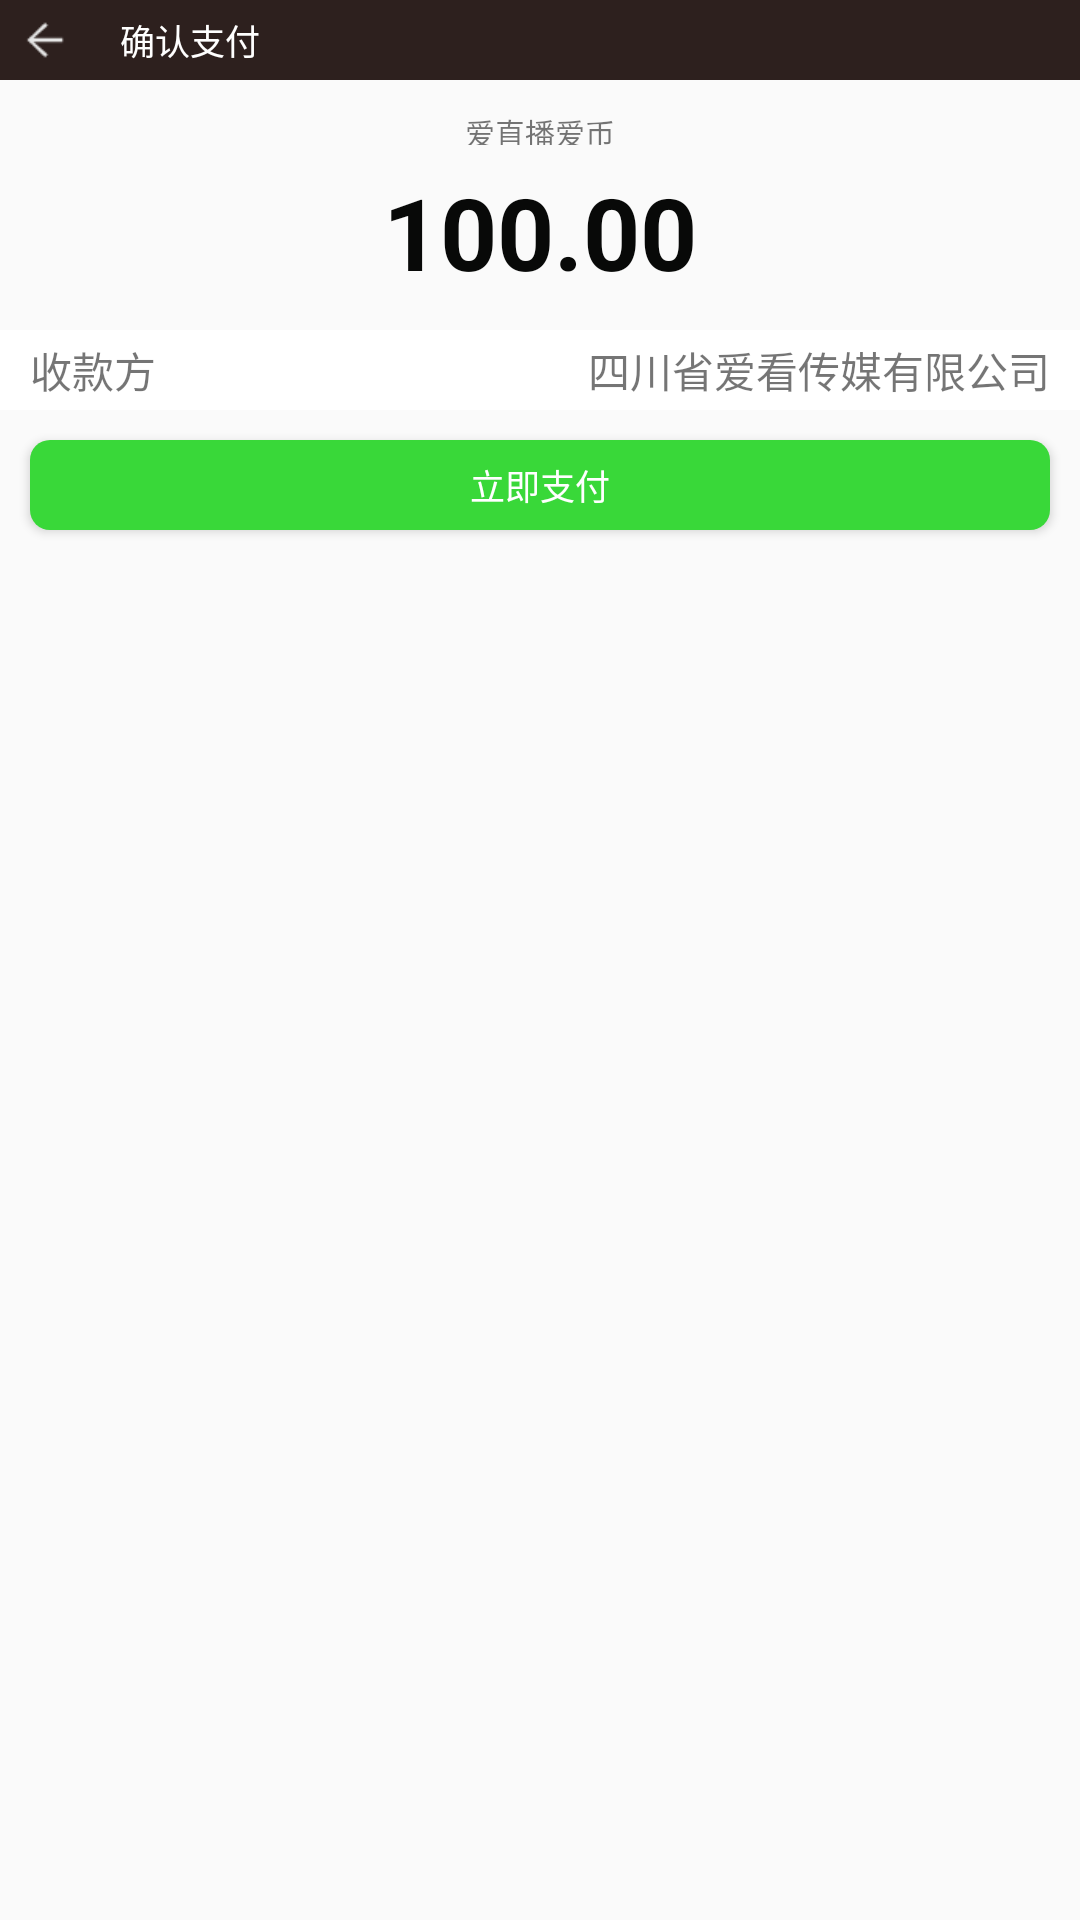

Screen size 1080w x 1920h. Icon name, then its center in pixels as (x,y):
backto: (45,40)
